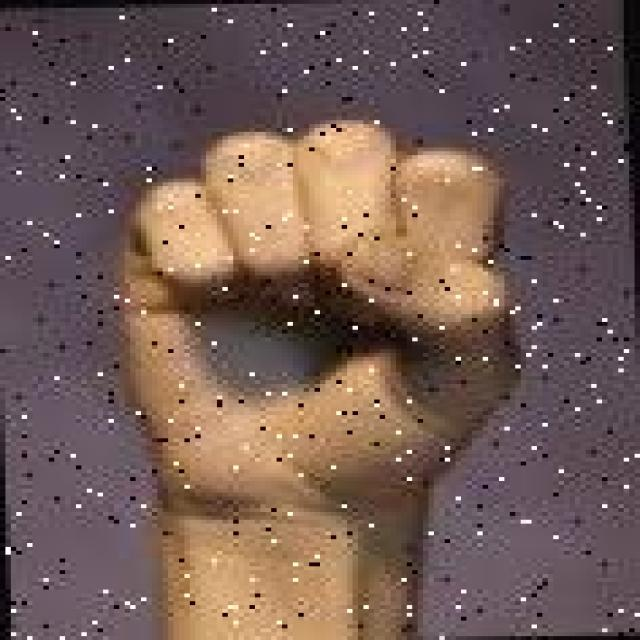S: (95, 101, 550, 531)
